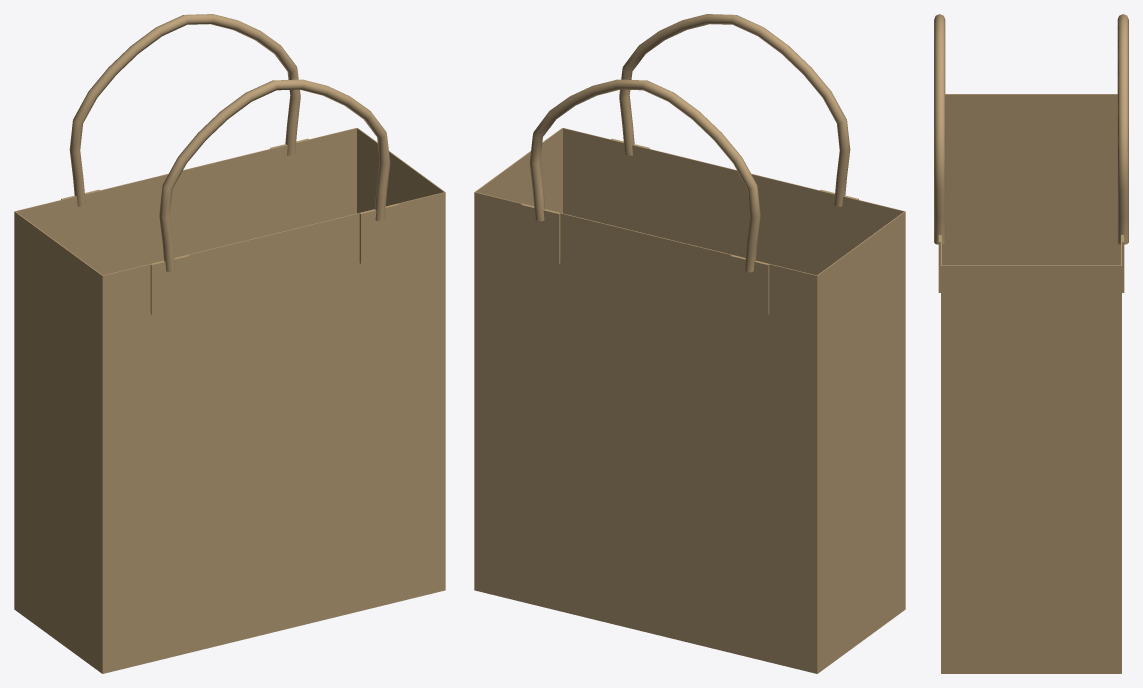
Rendered from paper.glb.
3 renders of one model, left to right at view 1: azimuth 30°, elevation 25°; view 2: azimuth 150°, elevation 25°; view 3: azimuth 270°, elevation 25°, orthographic. The views are drawn at different scales.
Parts seen in each view (by area): view 1: BagWideWall_0.04, BagSideWall_-0.09, BagWideWall_-0.04, PaperRope_1, PaperRope_-1, BagSideWall_0.09, HandlePatch_1_-0.055, HandlePatch_1_0.055; view 2: BagWideWall_-0.04, BagSideWall_-0.09, BagWideWall_0.04, PaperRope_-1, PaperRope_1, BagSideWall_0.09, HandlePatch_-1_-0.055, HandlePatch_-1_0.055; view 3: BagSideWall_0.09, BagSideWall_-0.09, PaperRope_-1, PaperRope_1, BagWideWall_-0.04, BagWideWall_0.04.
Boxes of the visible parts, x1,y1,x2,y2 form: BagWideWall_0.04: [102, 192, 445, 673]; BagSideWall_-0.09: [14, 211, 102, 673]; BagWideWall_-0.04: [15, 128, 357, 275]; PaperRope_1: [159, 79, 390, 272]; PaperRope_-1: [69, 14, 300, 206]; BagSideWall_0.09: [357, 128, 445, 589]; HandlePatch_1_-0.055: [150, 255, 189, 314]; HandlePatch_1_0.055: [360, 204, 398, 263]; BagWideWall_-0.04: [474, 192, 817, 673]; BagSideWall_-0.09: [817, 211, 905, 673]; BagWideWall_0.04: [562, 128, 904, 275]; PaperRope_-1: [529, 79, 760, 272]; PaperRope_1: [619, 14, 850, 206]; BagSideWall_0.09: [474, 128, 562, 589]; HandlePatch_-1_-0.055: [730, 255, 769, 314]; HandlePatch_-1_0.055: [521, 204, 560, 263]; BagSideWall_0.09: [941, 265, 1121, 673]; BagSideWall_-0.09: [942, 94, 1120, 265]; PaperRope_-1: [1117, 14, 1128, 244]; PaperRope_1: [934, 14, 945, 244]; BagWideWall_-0.04: [1121, 235, 1121, 673]; BagWideWall_0.04: [941, 235, 941, 673].
Bounding box in the file's own units: 0.1805 × 0.2775 × 0.0865.
